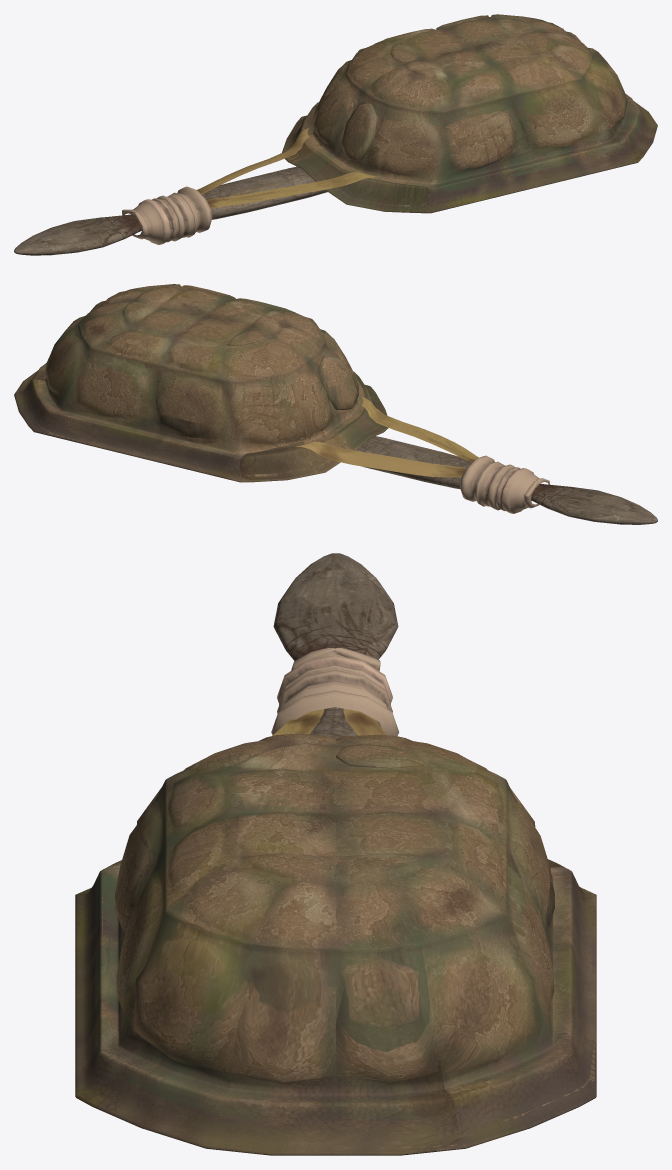
The picture shows the model from 3 angles, top to bottom: view 1: azimuth 30°, elevation 25°; view 2: azimuth 150°, elevation 25°; view 3: azimuth 270°, elevation 25°; orthographic projection. The views are drawn at different scales.
Parts seen in each view (by area): view 1: pCube1, turtle_rattle_1:pCylinder1, pTorus1, pPlane1, pPlane2; view 2: pCube1, turtle_rattle_1:pCylinder1, pTorus1, pPlane2, pPlane1; view 3: pCube1, turtle_rattle_1:pCylinder1, pTorus1.
Boxes of the visible parts, x1,y1,x2,y2 form: pCube1: [282, 14, 657, 213]; turtle_rattle_1:pCylinder1: [14, 166, 327, 255]; pTorus1: [122, 186, 212, 244]; pPlane1: [206, 172, 377, 208]; pPlane2: [197, 128, 308, 194]; pCube1: [14, 284, 388, 482]; turtle_rattle_1:pCylinder1: [356, 436, 657, 524]; pTorus1: [460, 455, 550, 513]; pPlane2: [295, 441, 466, 477]; pPlane1: [361, 397, 478, 462]; pCube1: [75, 733, 596, 1155]; turtle_rattle_1:pCylinder1: [273, 553, 398, 739]; pTorus1: [271, 648, 399, 735].
Bounding box in the file's own units: 4.15 × 0.7694 × 1.52.
Materials: 5 (5 with a texture image).
